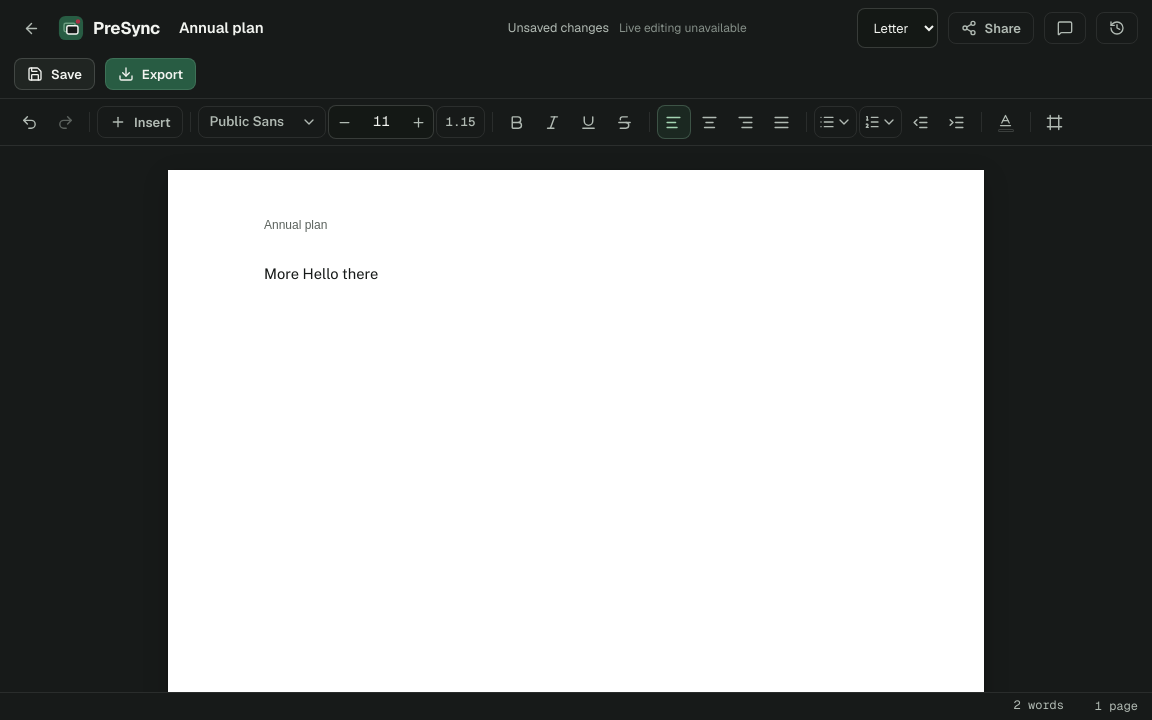
Test: DocumentEditorPage › keeps changes that fail to save and sends them again
The width and height of the screenshot is (1152, 720).
Check: the field named "Document title" is shown, box [170,10,498,46]
Click the button "Save" at (54, 74), box [14,58,95,90]
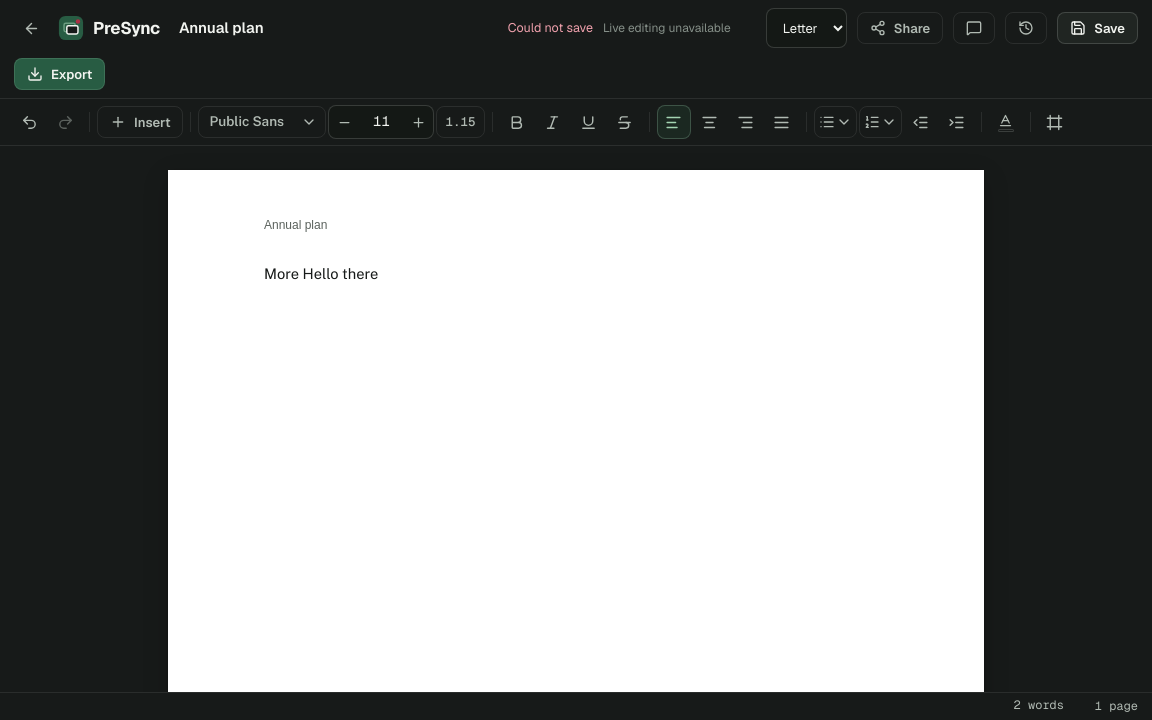
Check: the text "Could not save" is shown, box [508,18,593,38]
Click the button "Save" at (1098, 28), box [1057,12,1138,44]
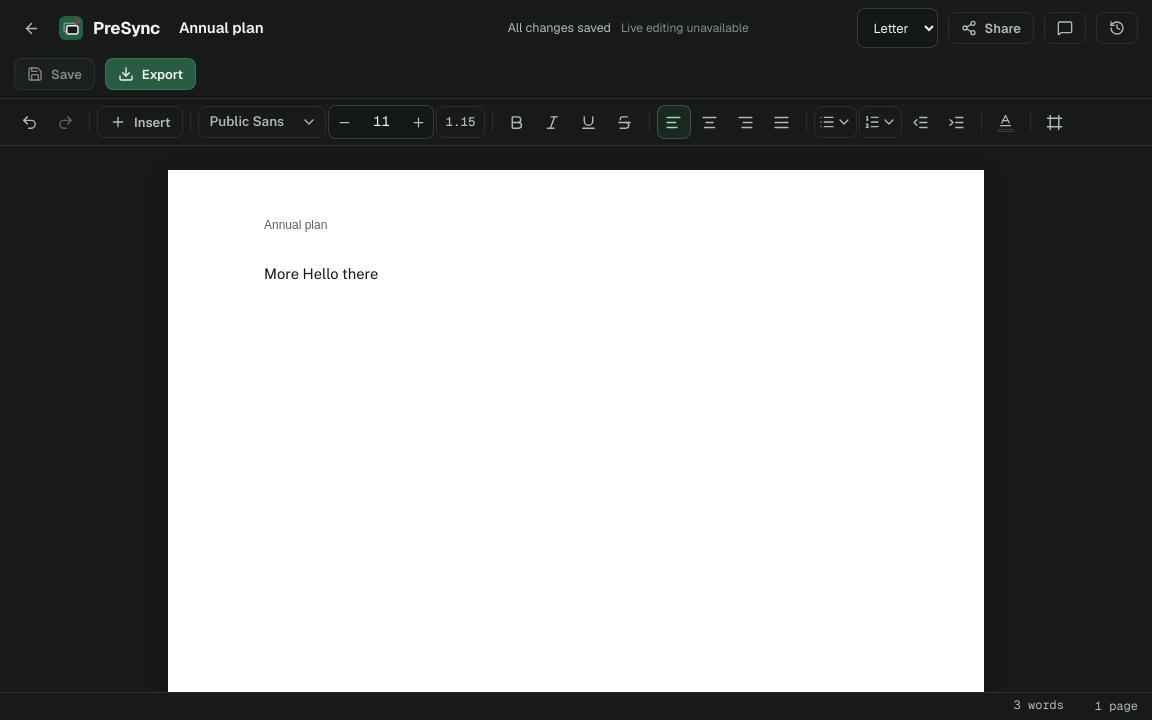
Check: the text "All changes saved" is shown, box [508,18,611,38]
